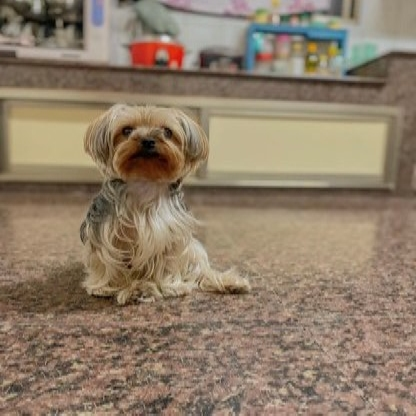yorkshire: (78, 103, 251, 303)
